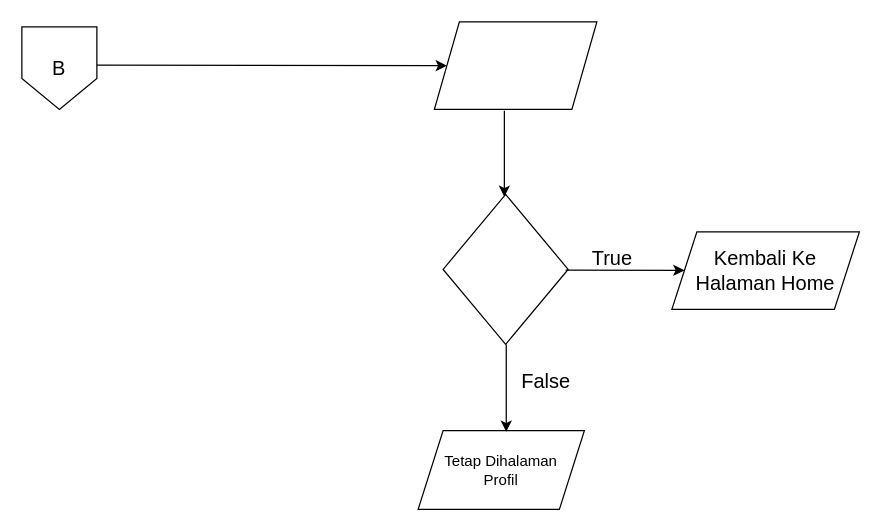
This 881x531 diagram has some shape labels left out. Each missing label, with the box of its shape:
Back: (442, 193, 568, 344)
Halaman Profil: (433, 21, 597, 109)
